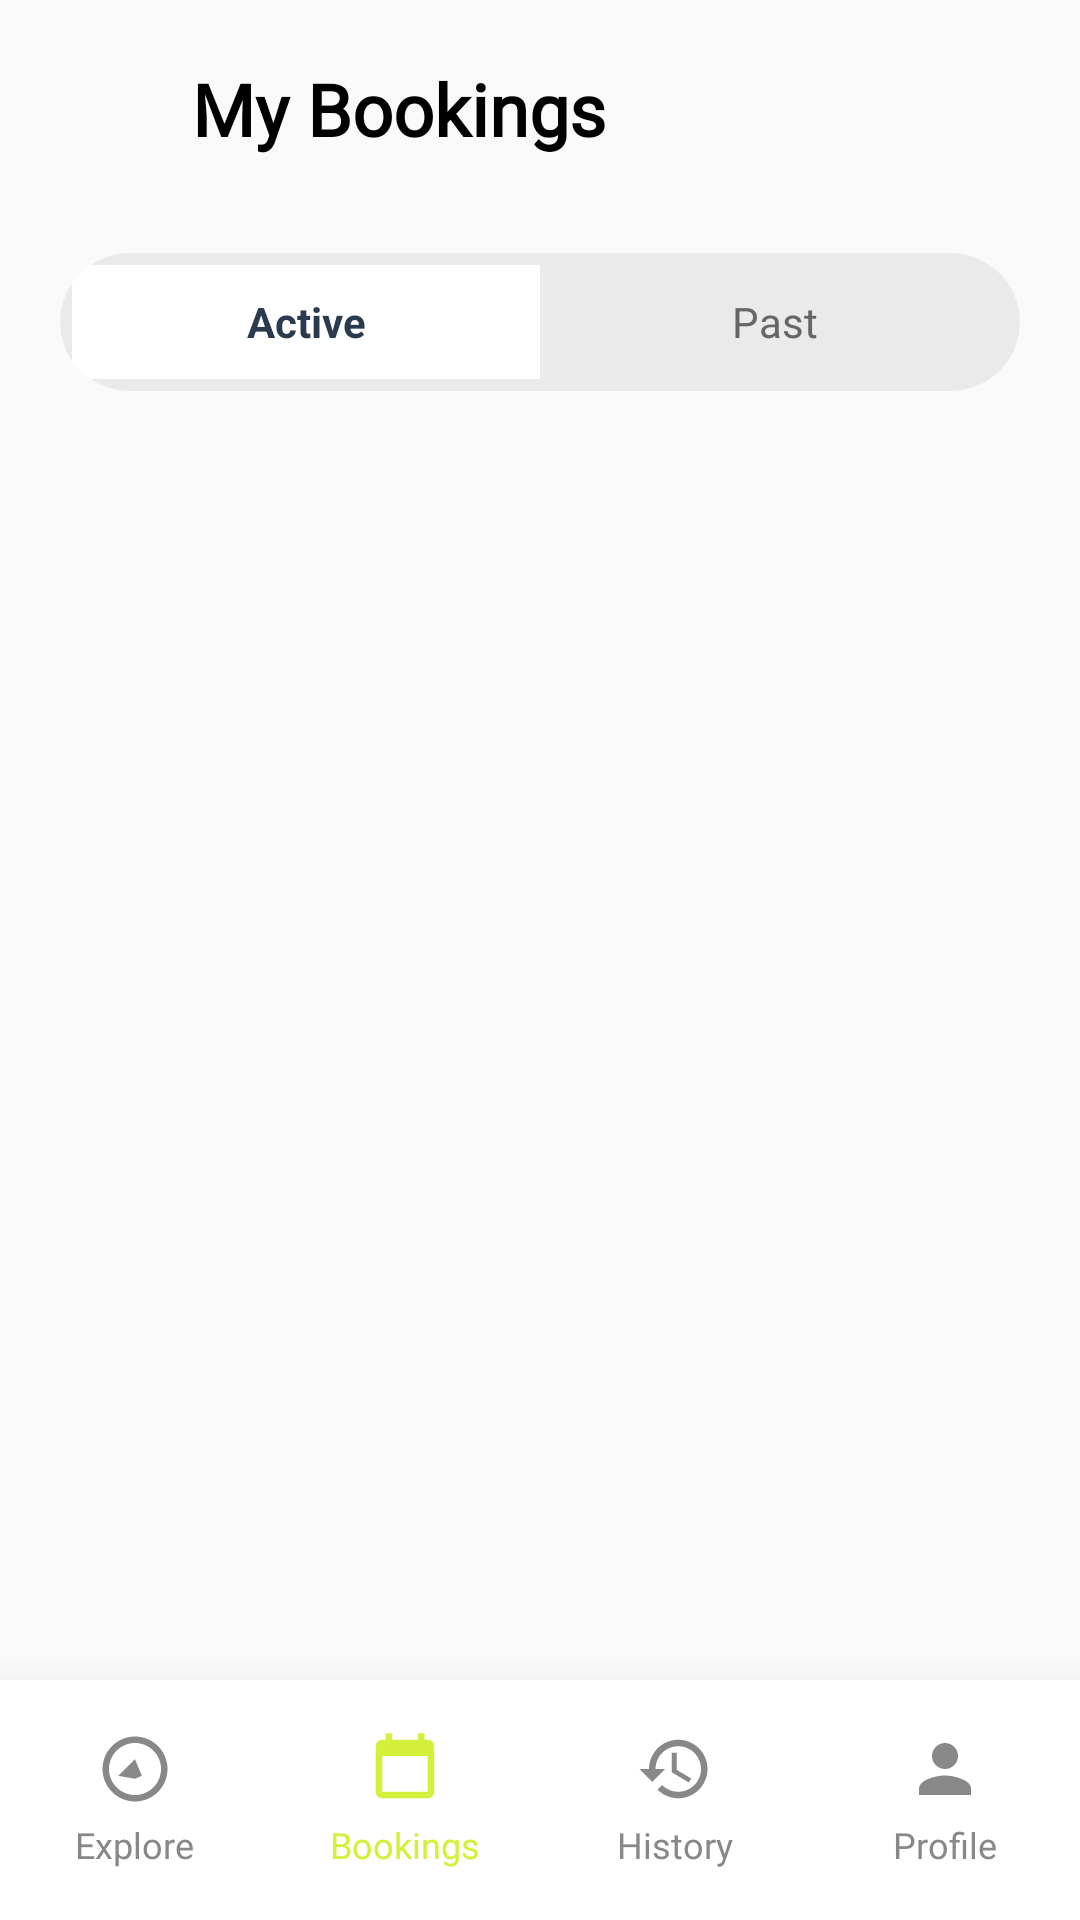

Icon bounding boxes for this 1080px×1920px phone screenshot, format (left=x1, top=y1, right=x2, bottom=y2):
user: (left=919, top=1743, right=971, bottom=1795)
